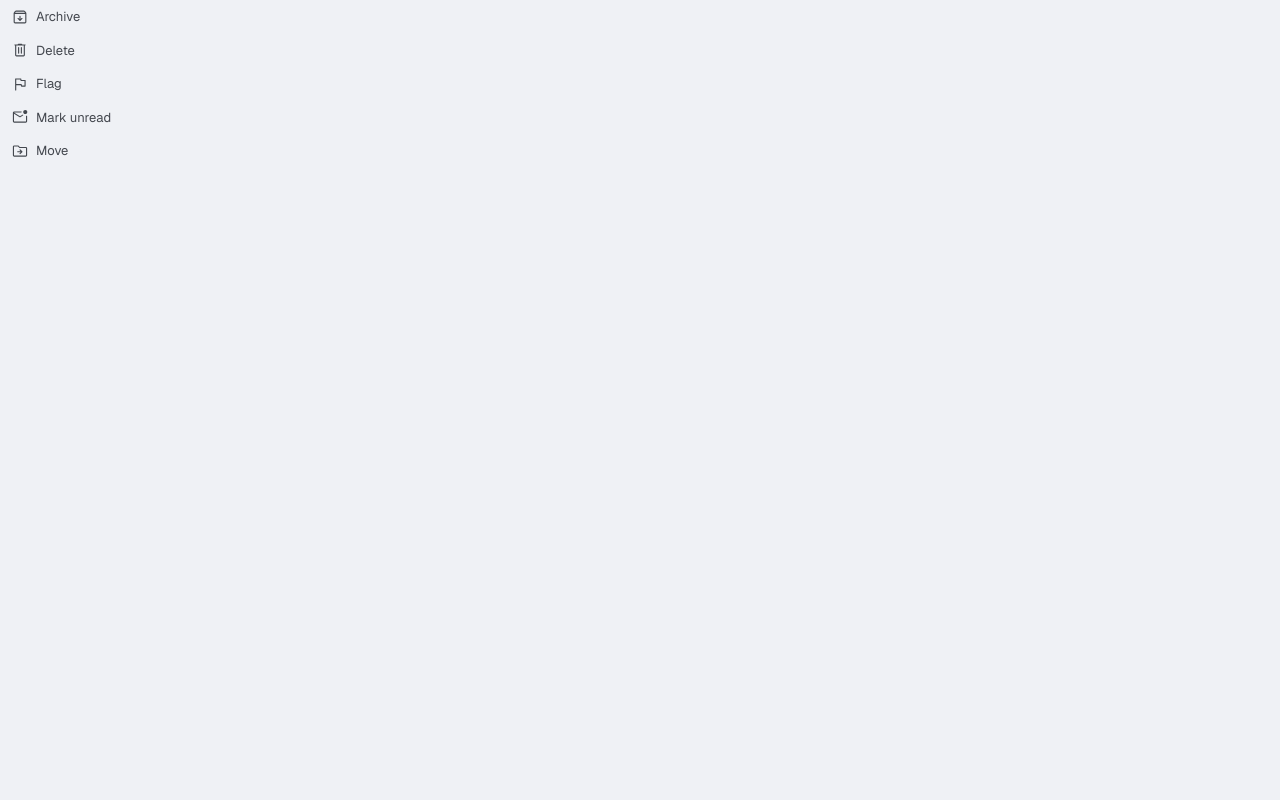
Scenario: MailboxActControls › asks about destroying rather than filing where the messages are already in the trash, and offers no way back
The width and height of the screenshot is (1280, 800).
Step 1. Click the button "Delete" → [43, 50], box [0,34,86,67]
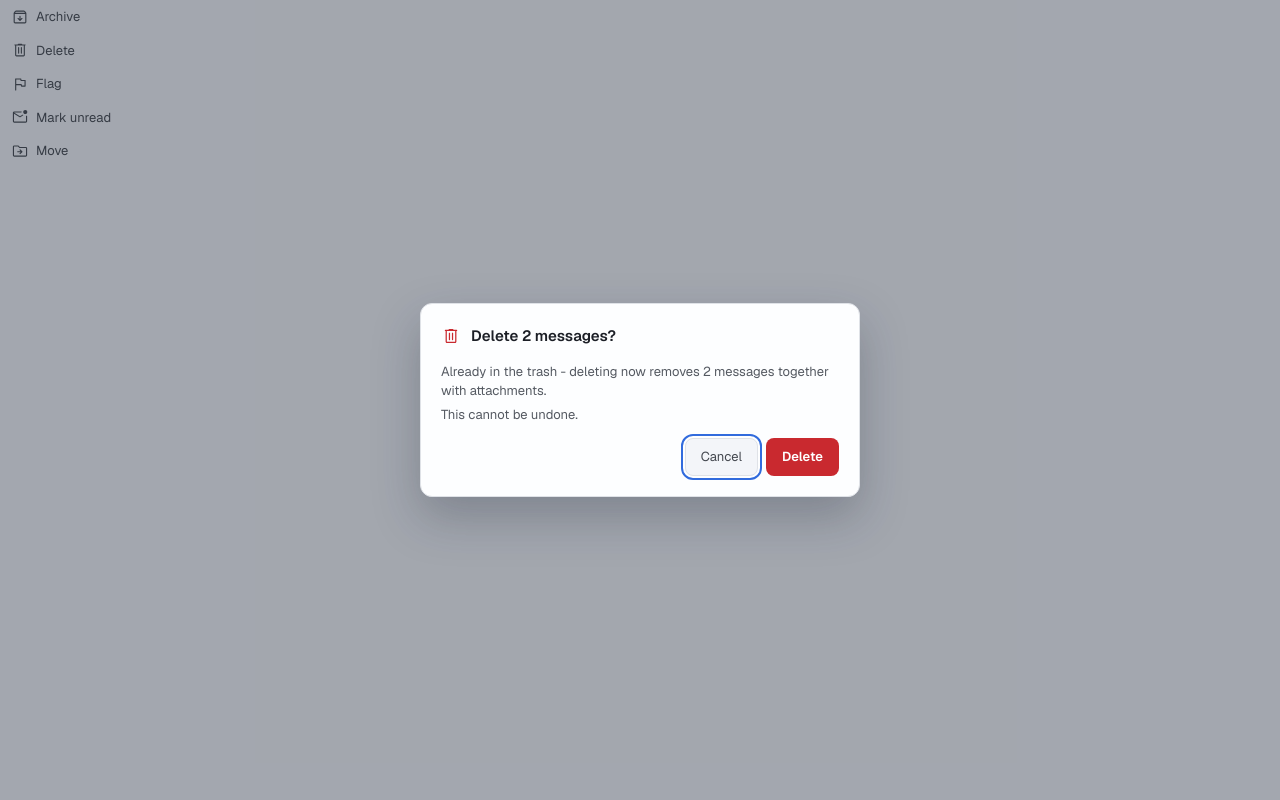
Check: the heading "Delete 2 messages?" is shown, box [441,326,616,346]
Check: the text "Already in the trash - deleting now removes 2 messages together with attachments." is shown, box [441,363,829,399]
Check: the text "This cannot be undone." is shown, box [441,406,578,423]
